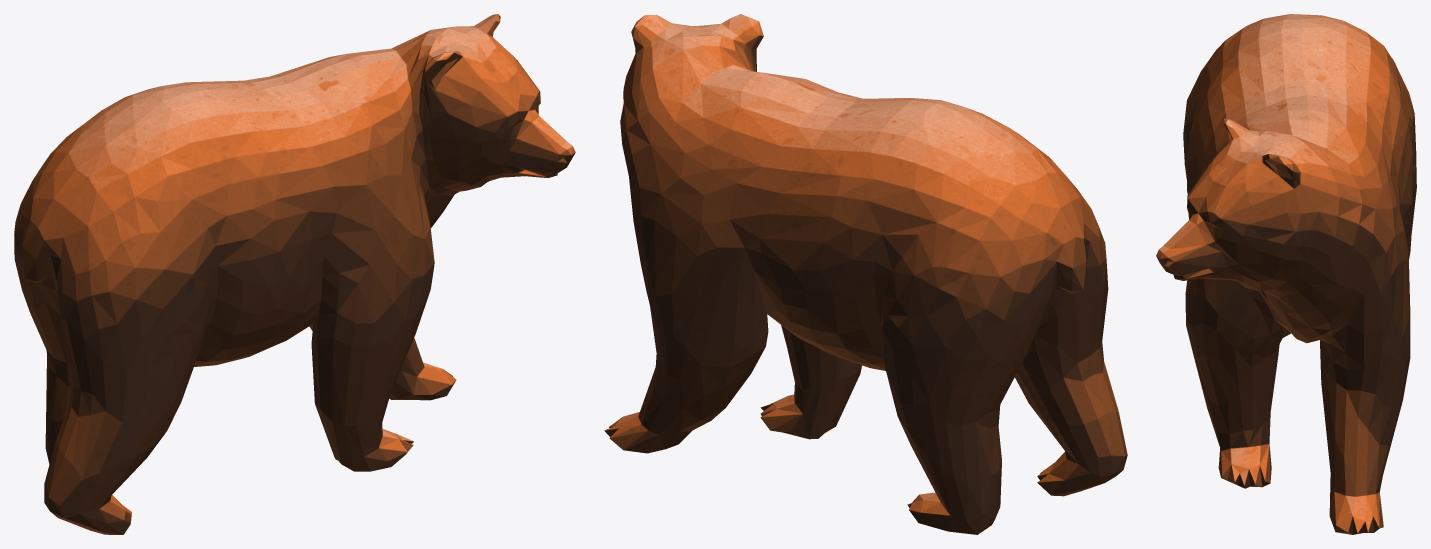
The model's file is Bear - low poly.glb.
3 renders of one model, left to right at view 1: azimuth 30°, elevation 25°; view 2: azimuth 150°, elevation 25°; view 3: azimuth 270°, elevation 25°, orthographic. The views are drawn at different scales.
Visible parts, largest first — view 1: brown_bear.1; view 2: brown_bear.1; view 3: brown_bear.1.
Part boxes in pixels (x1,y1,x2,y2): brown_bear.1: [14, 14, 575, 534]; brown_bear.1: [604, 14, 1127, 534]; brown_bear.1: [1156, 14, 1416, 534].
Bounding box in the file's own units: 2.37 × 1.84 × 1.13.
1 material, 1 textured.
